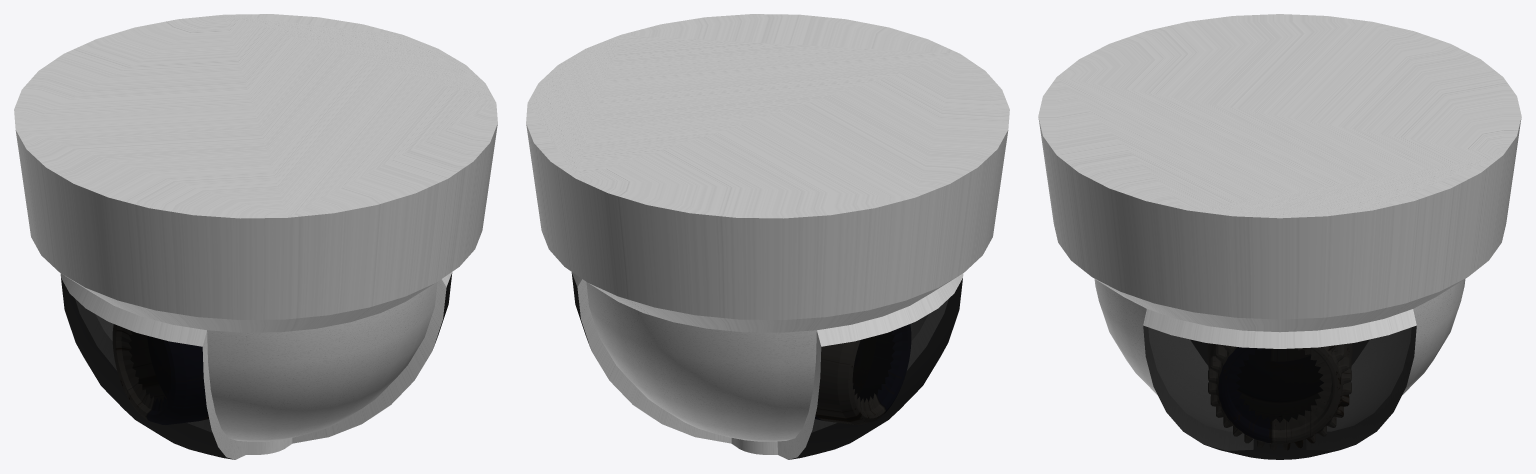
The model's file is CCTV_2.glb.
3 renders of one model, left to right at view 1: azimuth 30°, elevation 25°; view 2: azimuth 150°, elevation 25°; view 3: azimuth 270°, elevation 25°, orthographic.
Visible parts, largest first — view 1: Sphere.002, Cylinder.009; view 2: Sphere.002, Cylinder.009; view 3: Sphere.002, Cylinder.009.
Part boxes in pixels (bbox=[...]): Sphere.002: bbox=[14, 14, 497, 459]; Cylinder.009: bbox=[113, 324, 208, 424]; Sphere.002: bbox=[526, 14, 1009, 459]; Cylinder.009: bbox=[815, 324, 910, 424]; Sphere.002: bbox=[1038, 14, 1521, 459]; Cylinder.009: bbox=[1208, 344, 1351, 449].
Bounding box in the file's own units: 0.4158 × 0.3091 × 0.4158.
Materials: 3 (2 with a texture image).
